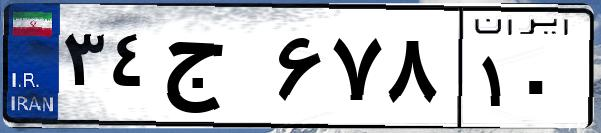0: (525, 38, 570, 115)
1: (475, 38, 525, 113)
3: (57, 26, 110, 100)
4: (110, 28, 158, 98)
6: (270, 28, 330, 110)
7: (330, 28, 385, 110)
8: (385, 28, 445, 110)
ج: (158, 20, 270, 120)
